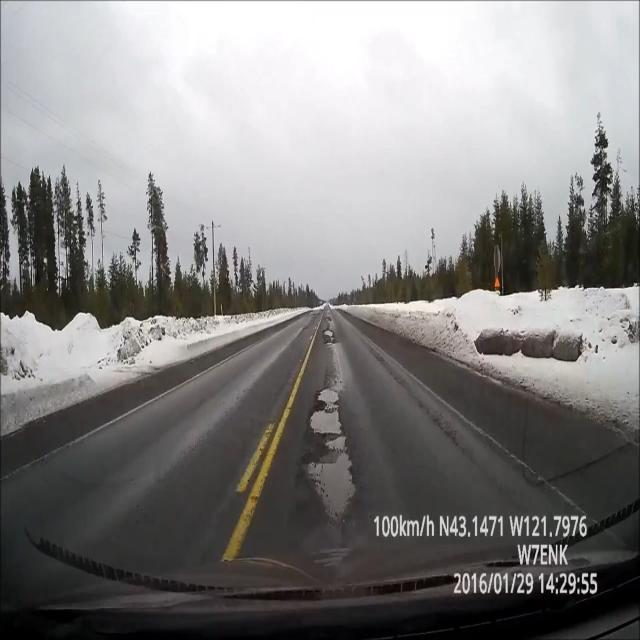Buraco: (295, 384, 361, 528), (320, 327, 338, 346)
